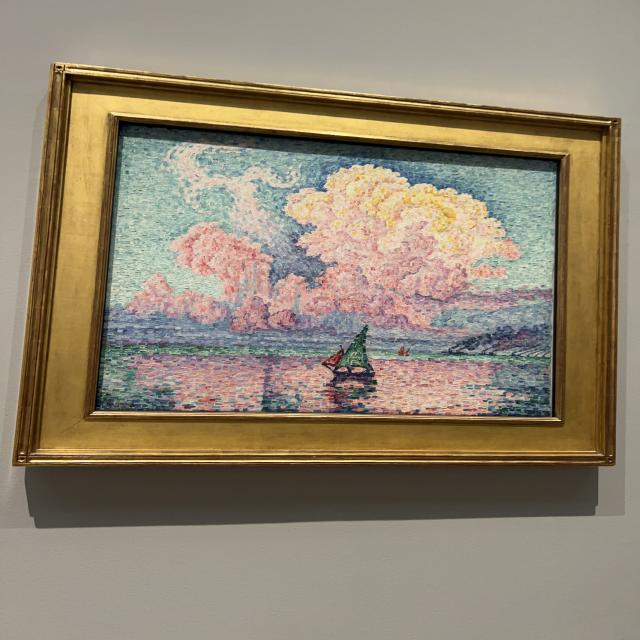sunrise: (99, 128, 555, 416)
